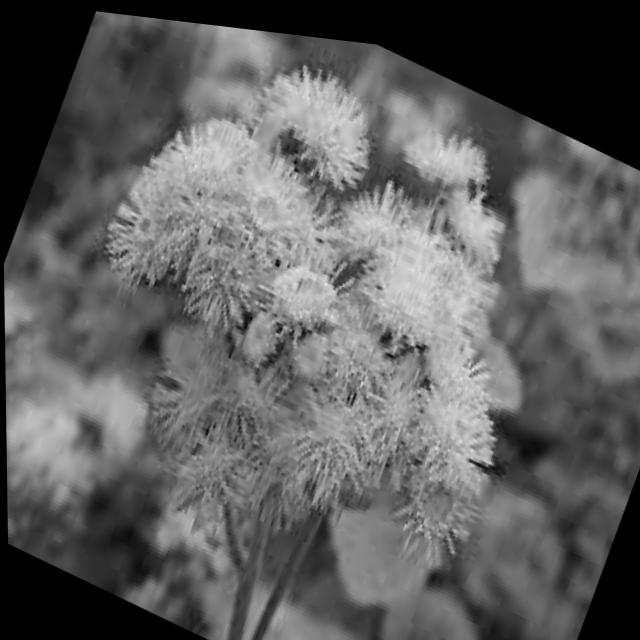Flower: (27, 3, 602, 623)
